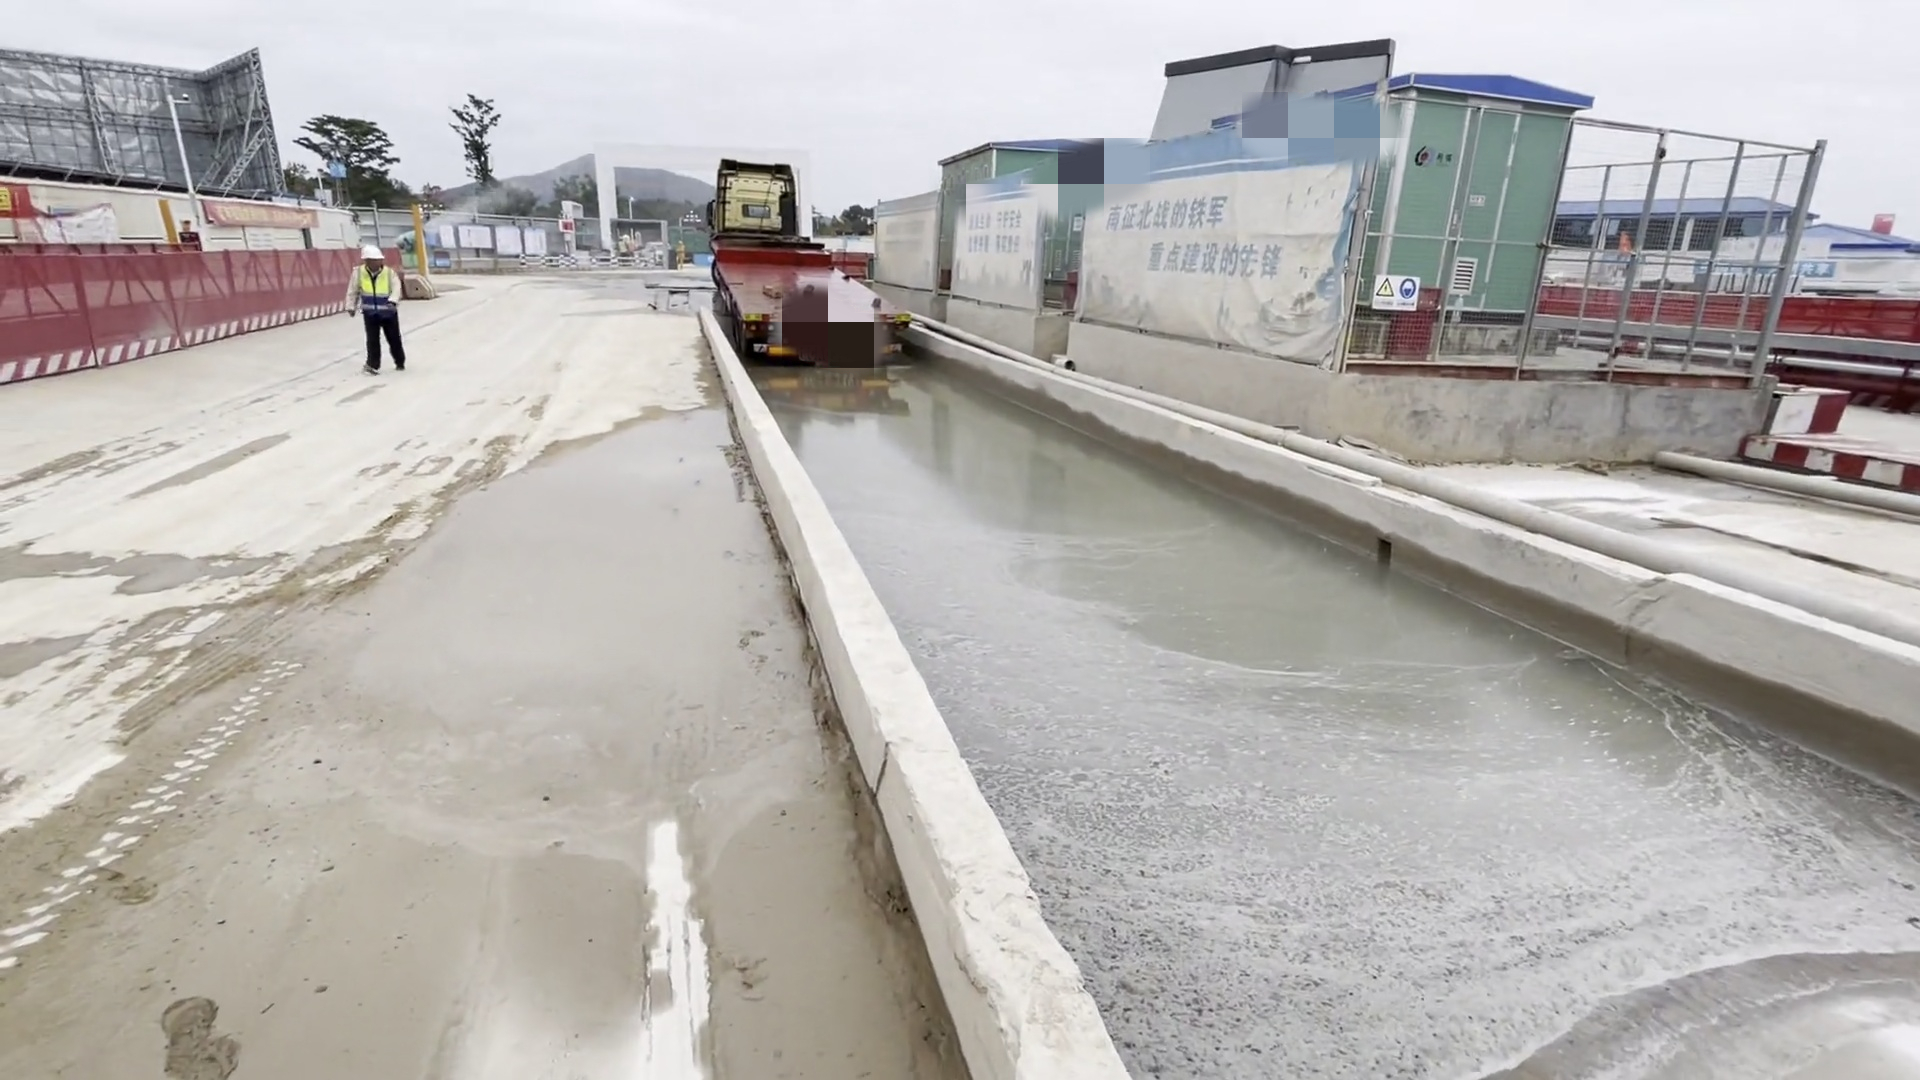fence: (1, 249, 343, 364)
helmet: (357, 245, 384, 261)
person: (336, 242, 401, 374)
slogan: (1100, 168, 1272, 307), (951, 189, 1035, 275), (186, 194, 325, 233), (1, 179, 68, 226)
vest: (358, 267, 396, 311)
